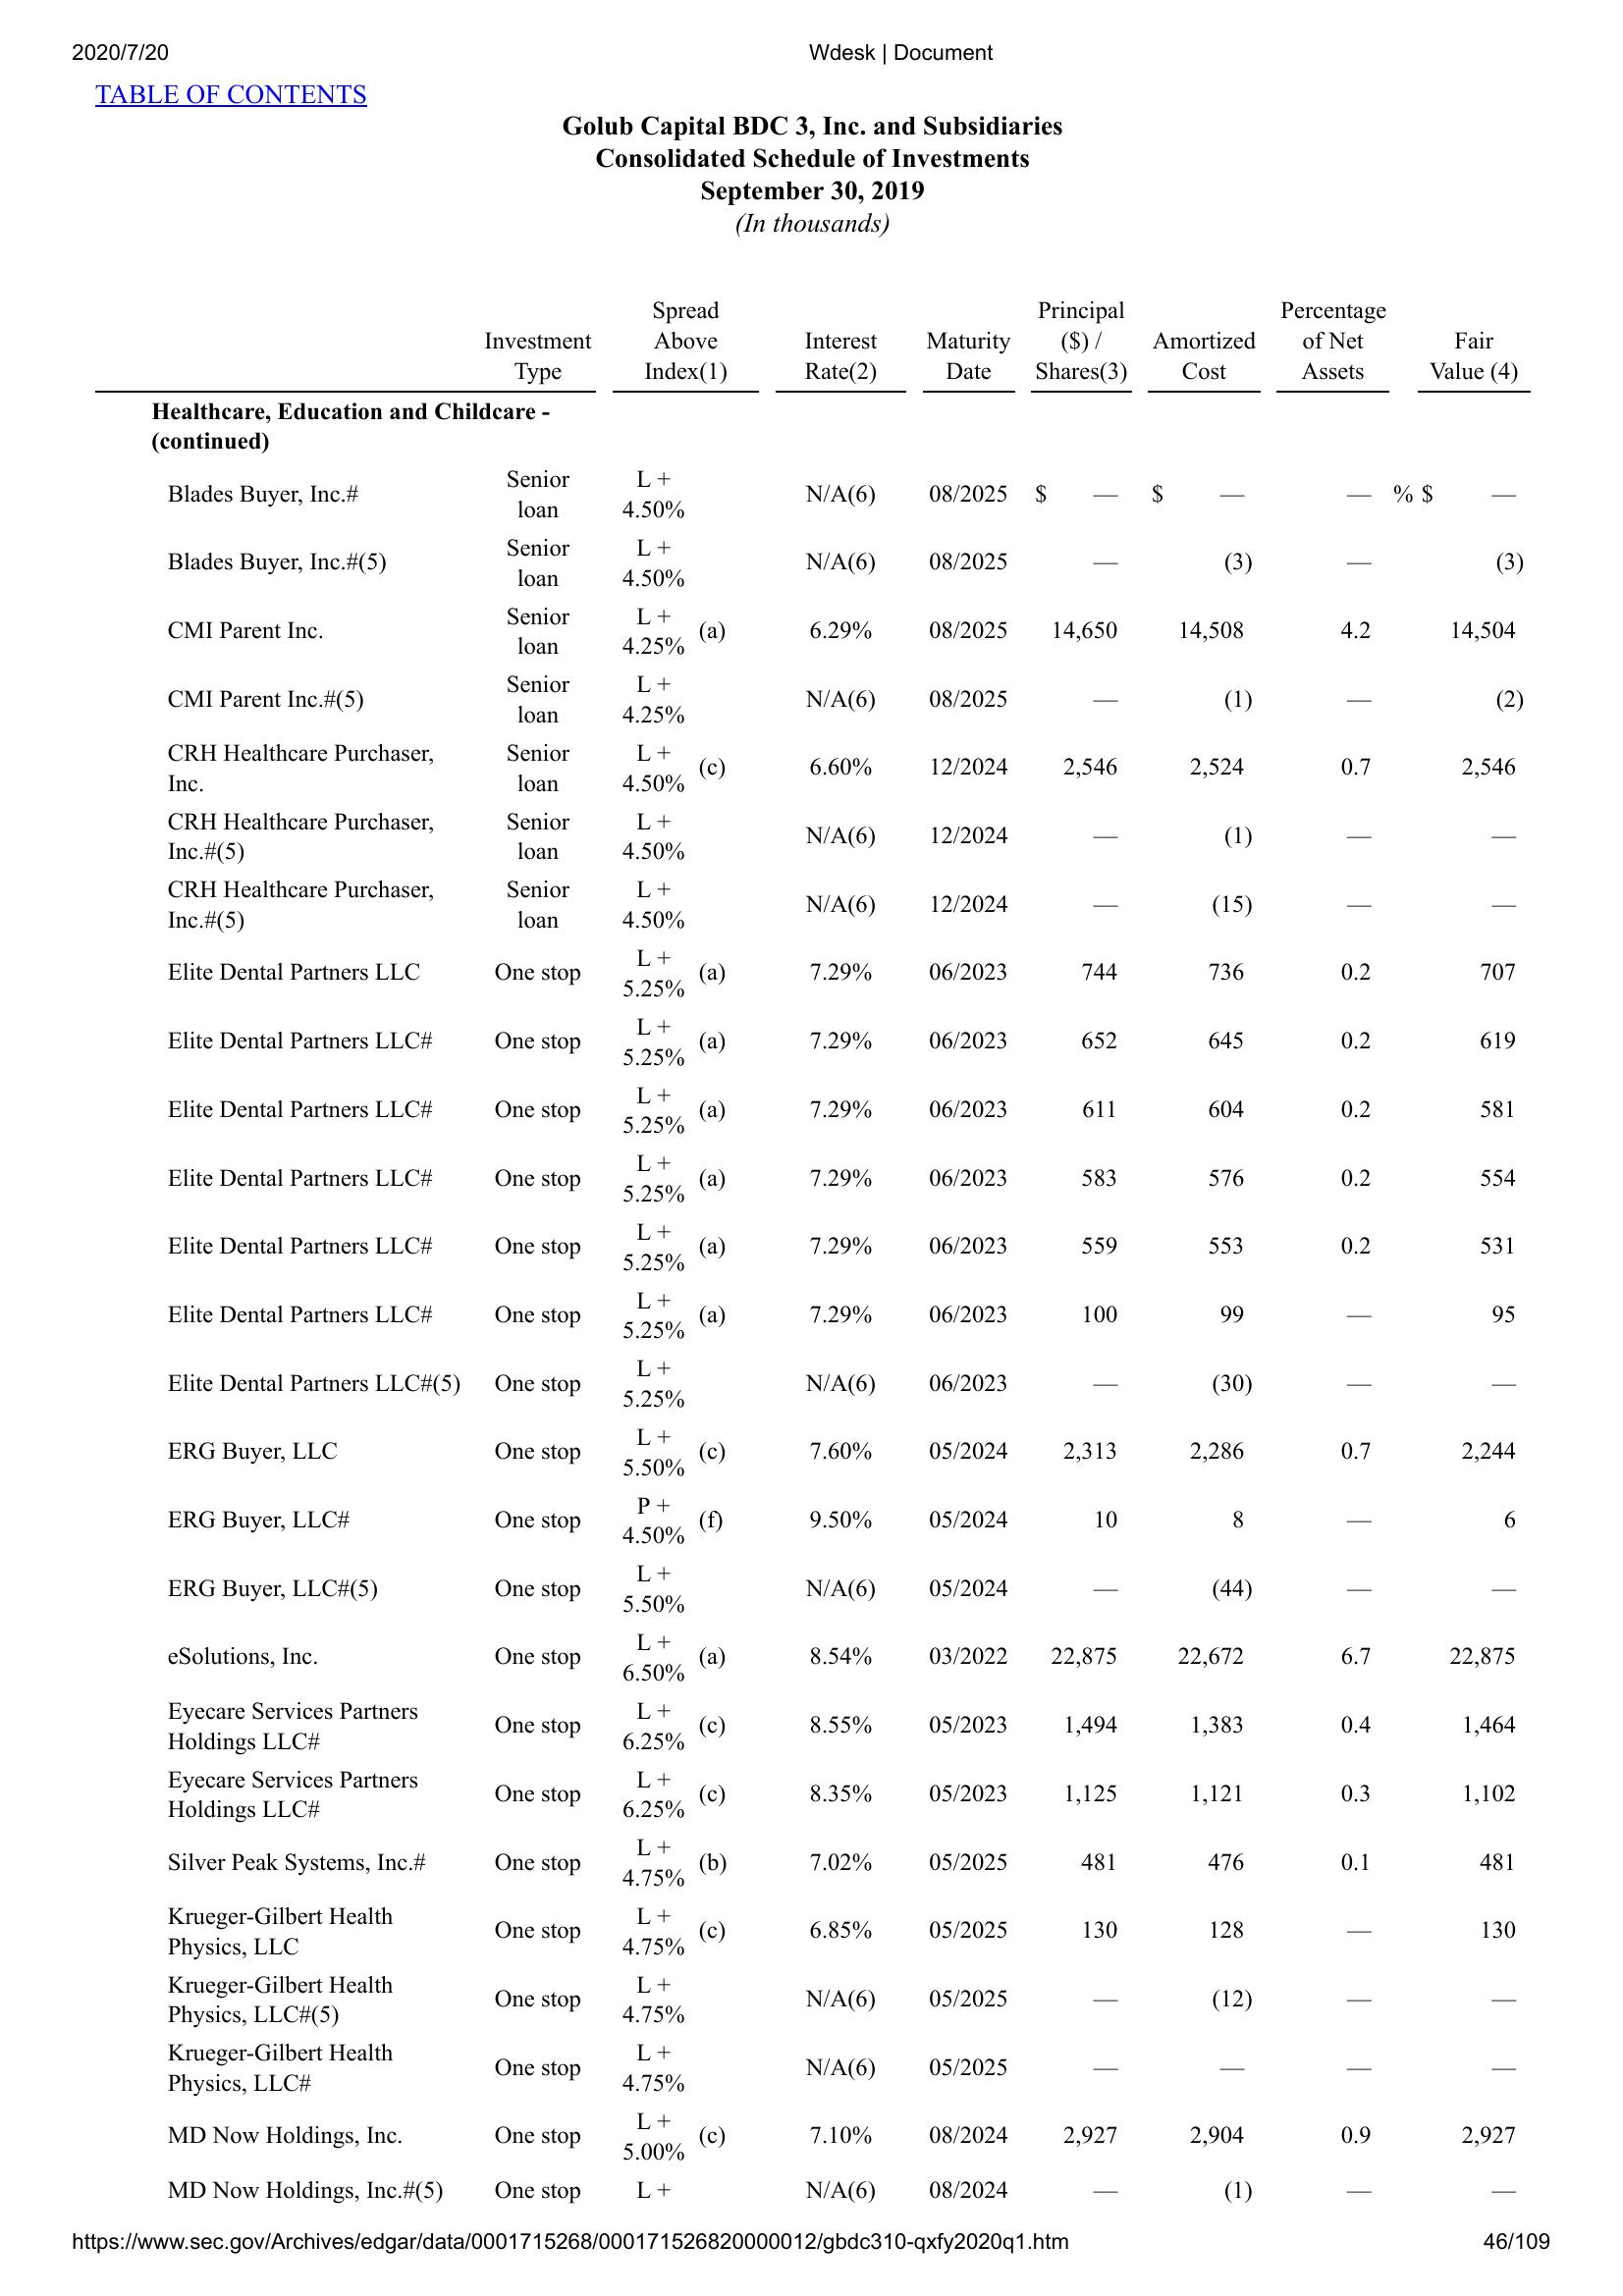table: (90, 279, 1542, 2219)
